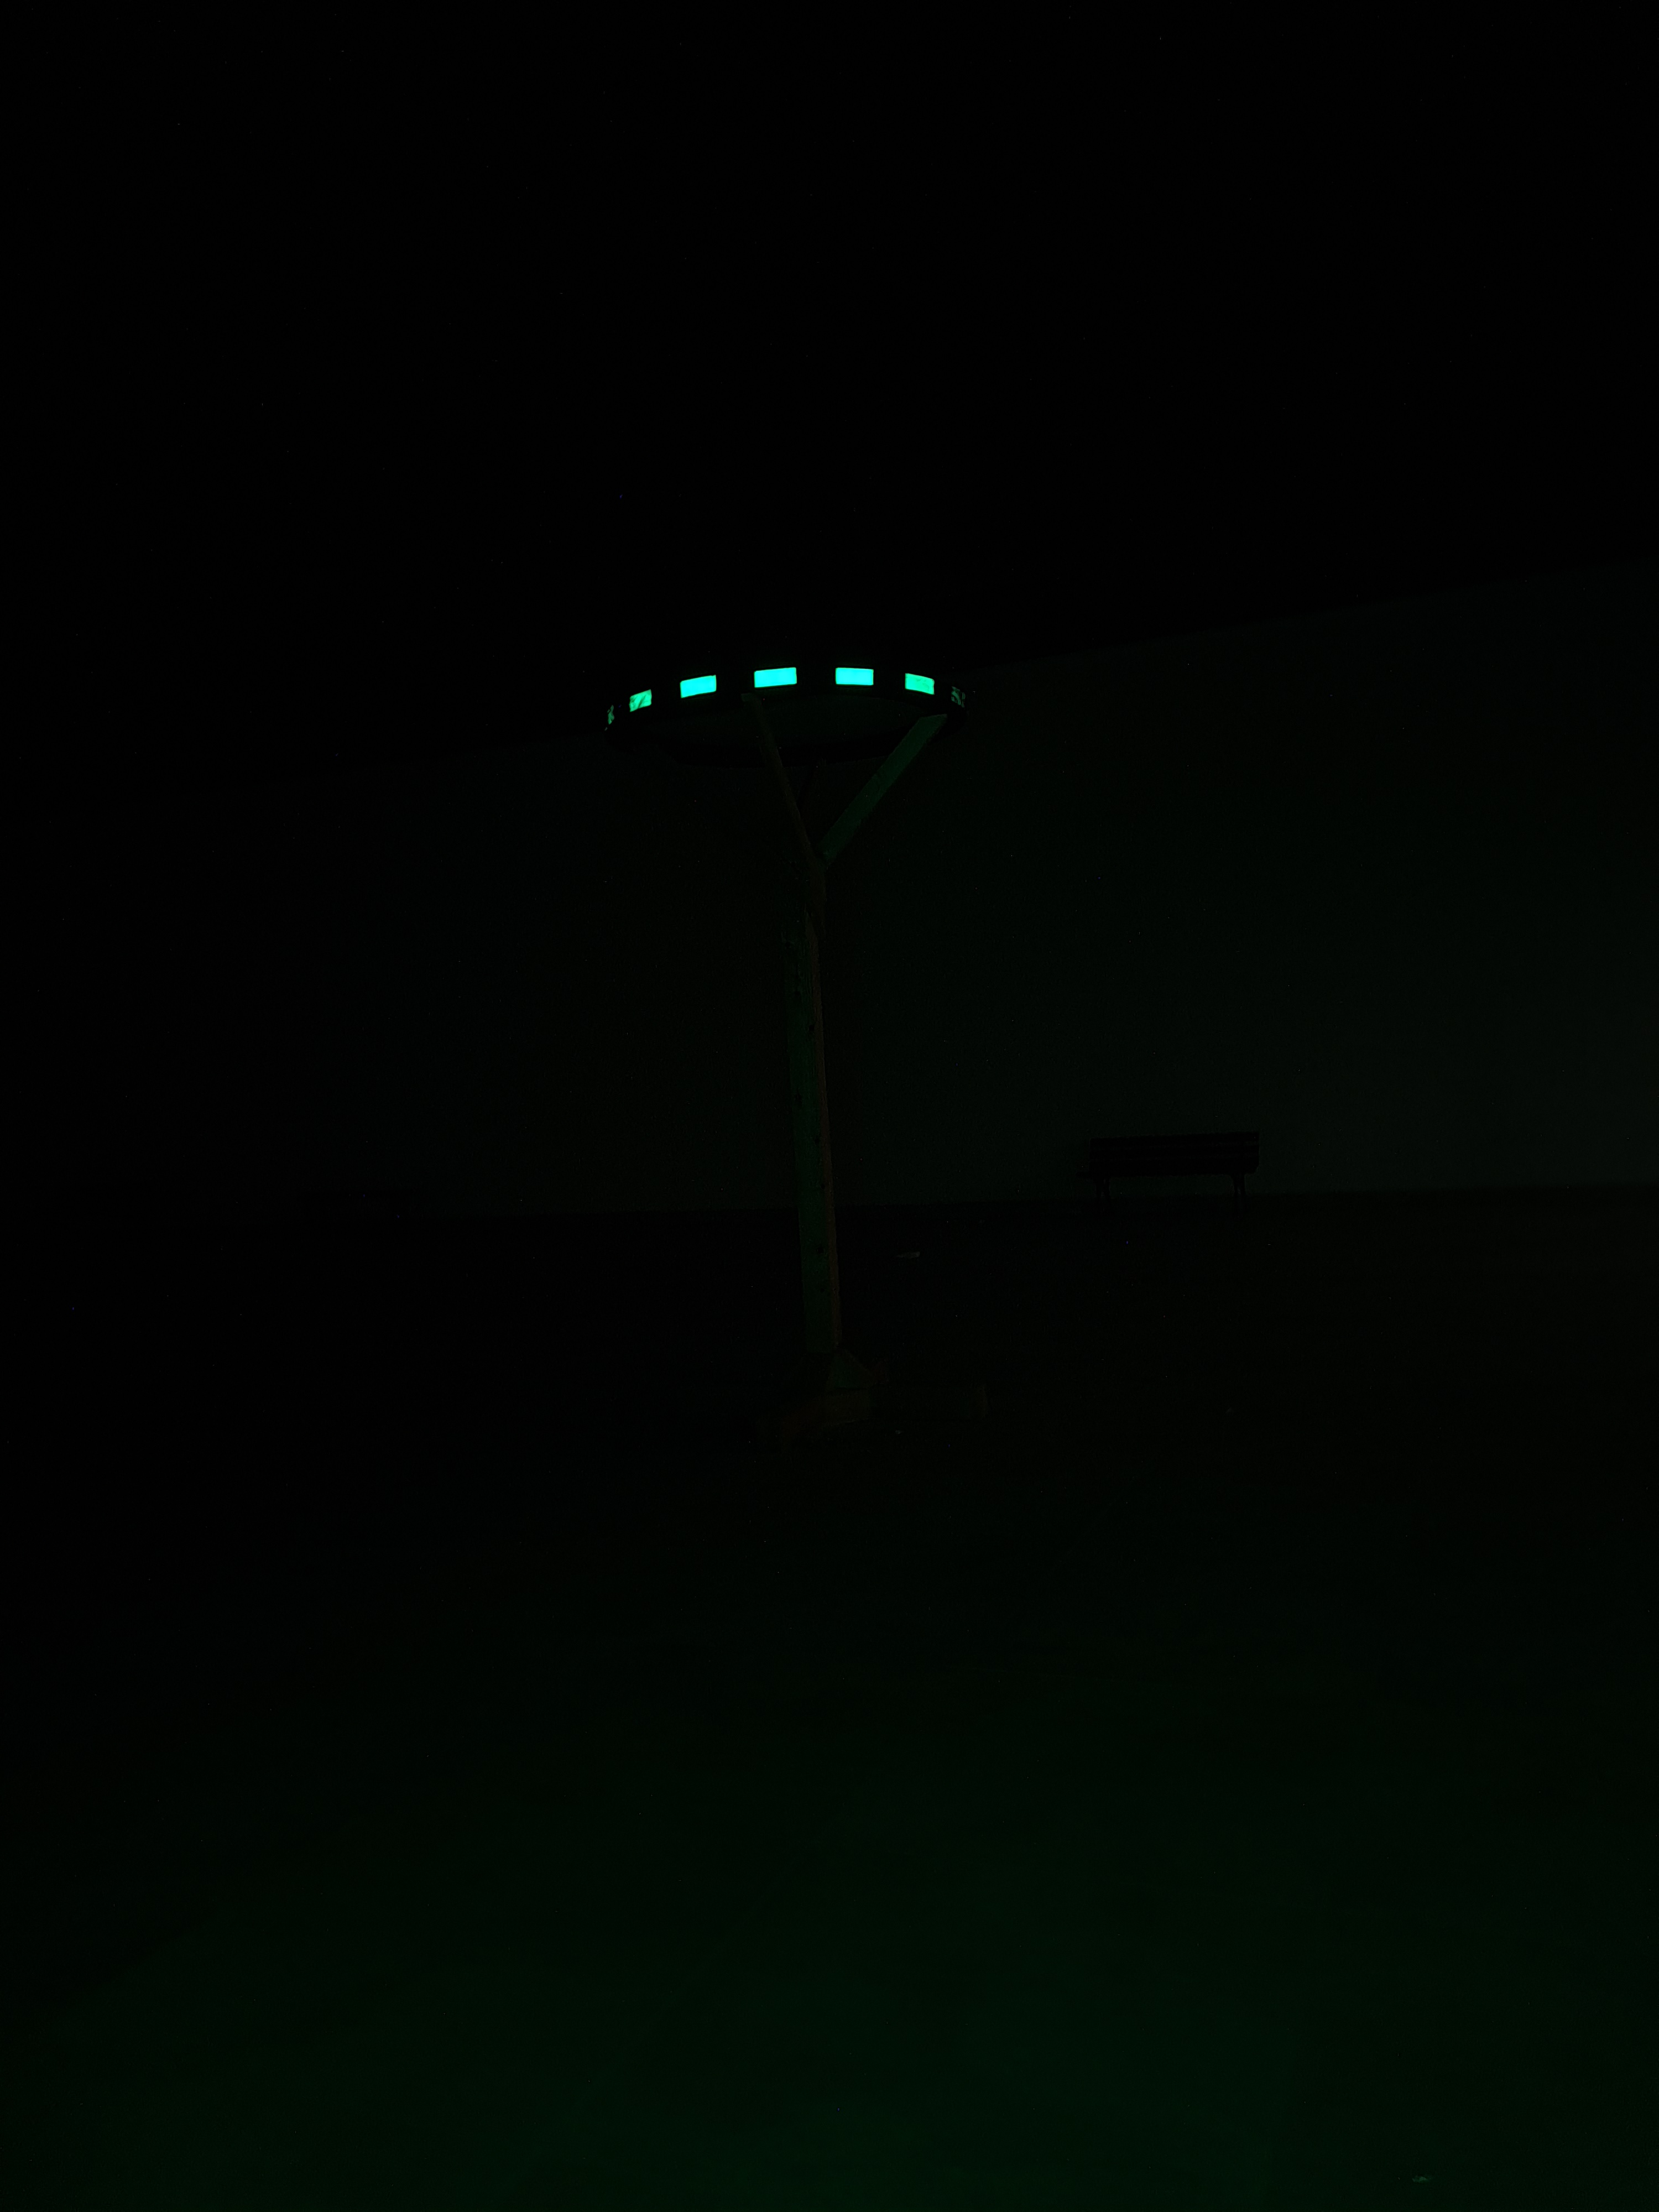hoop: (606, 660, 967, 725)
